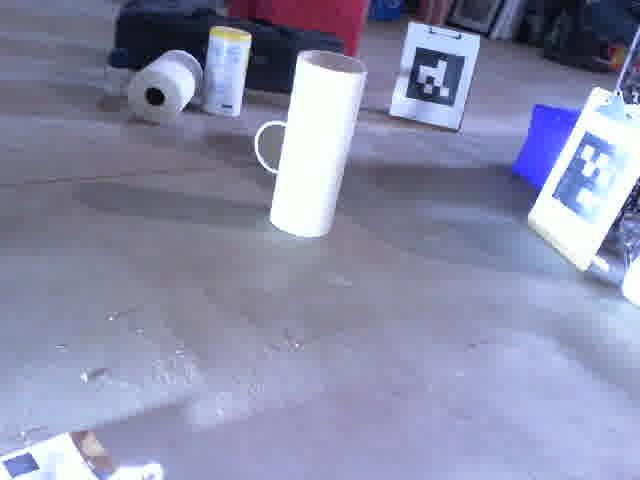coral: (267, 44, 370, 245), (251, 112, 290, 177)
